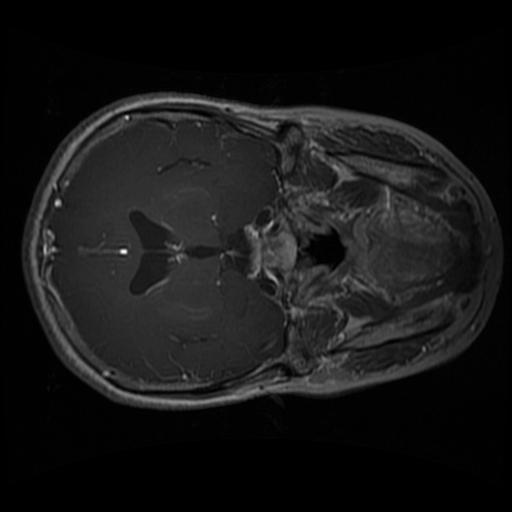glioma: (152, 152, 210, 178)
